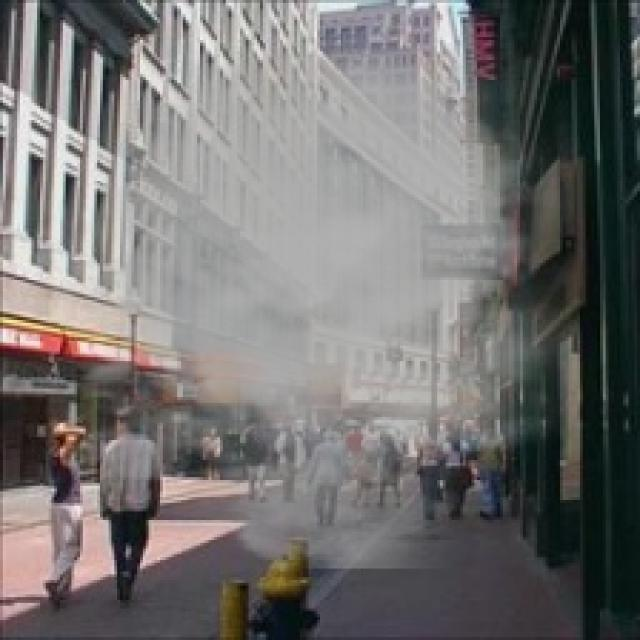smoke: (14, 23, 580, 568)
